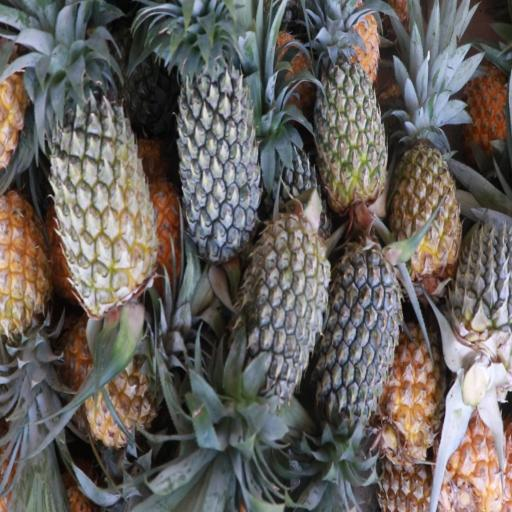------------------------------: (50, 83, 155, 312), (312, 42, 388, 211)
Pineapple - v8 v1: (392, 84, 462, 274), (81, 329, 183, 444), (0, 192, 55, 379), (384, 328, 450, 460)
